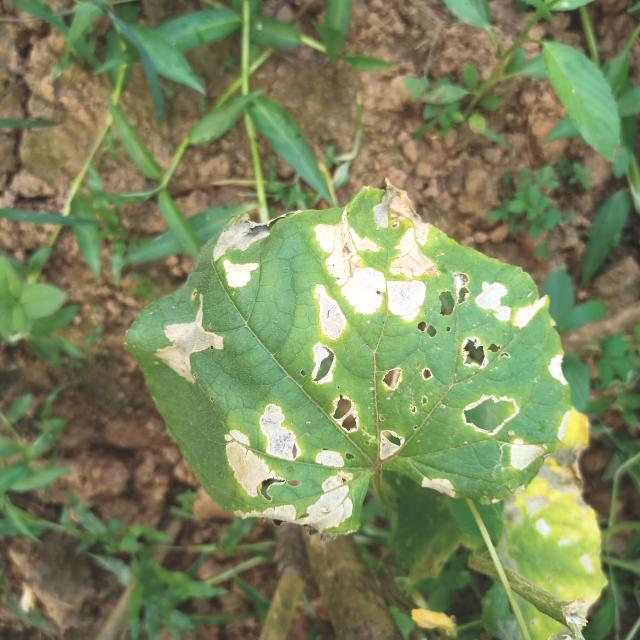disease_cucumber: (151, 207, 532, 528)
